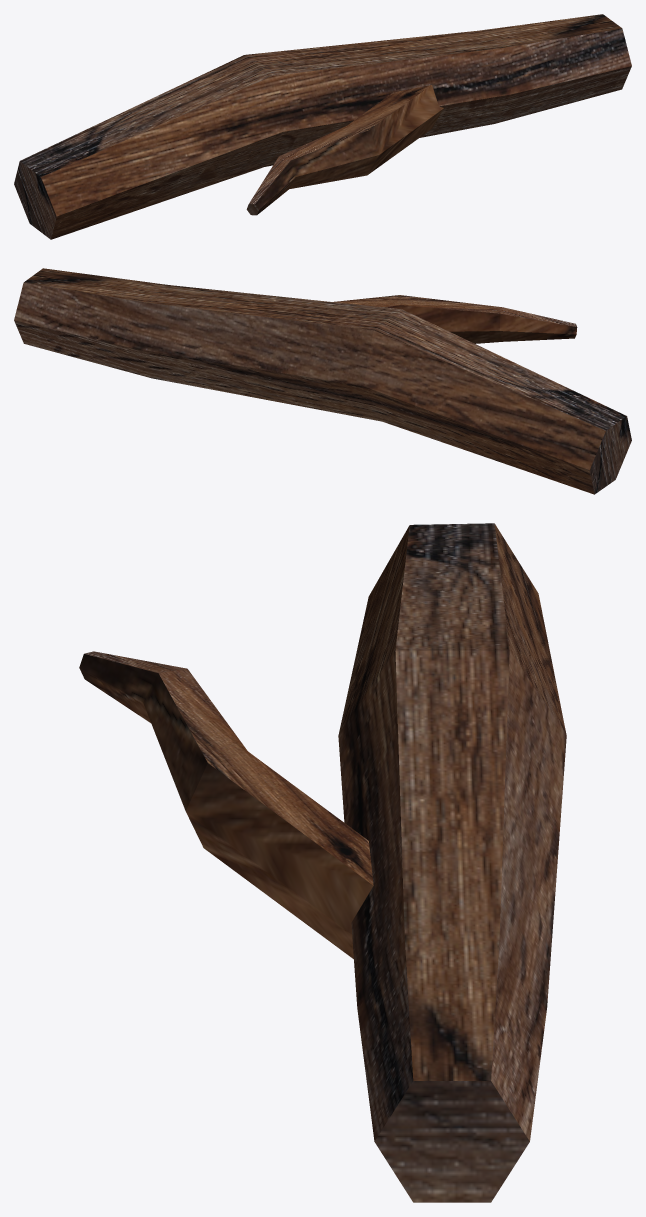
File: stvol.fbx
3 renders of one model, top to bottom at view 1: azimuth 30°, elevation 25°; view 2: azimuth 150°, elevation 25°; view 3: azimuth 270°, elevation 25°, orthographic. The views are drawn at different scales.
Parts seen in each view (by area): view 1: Cylinder.001; view 2: Cylinder.001; view 3: Cylinder.001.
Part boxes in pixels (x1,y1,x2,y2): Cylinder.001: (14, 14, 631, 239); Cylinder.001: (14, 268, 631, 494); Cylinder.001: (79, 523, 566, 1202).
Size of the model in its own units: 471 by 88.19 by 171.
